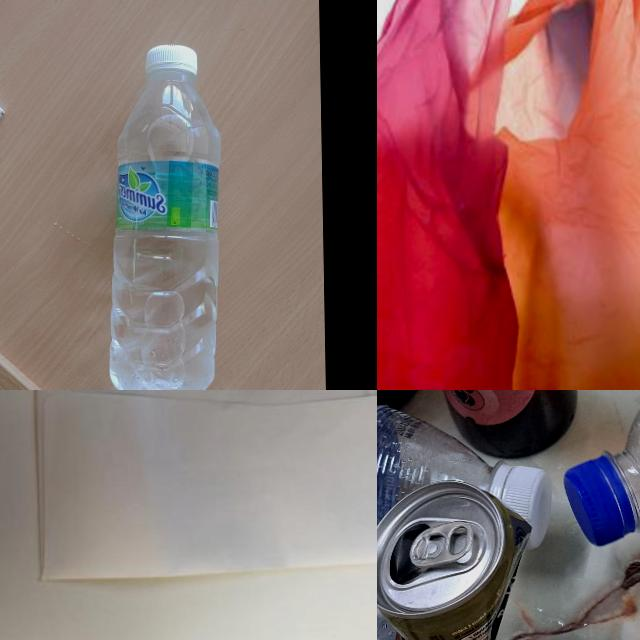aba de lata: (408, 518, 472, 566)
garrafa de vidro: (430, 390, 580, 459)
garrafa plástica: (102, 71, 225, 390), (377, 390, 497, 562)
lata: (377, 477, 537, 640)
papel: (31, 390, 377, 588)
sacola plástica: (377, 0, 534, 390), (493, 0, 640, 390)
tampa plástica: (562, 451, 632, 547), (498, 462, 551, 548), (143, 40, 200, 83)
